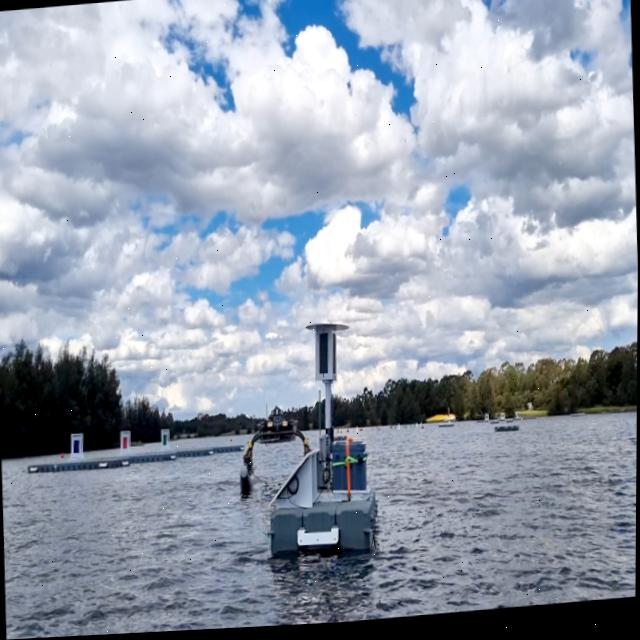led: (317, 333, 332, 383)
